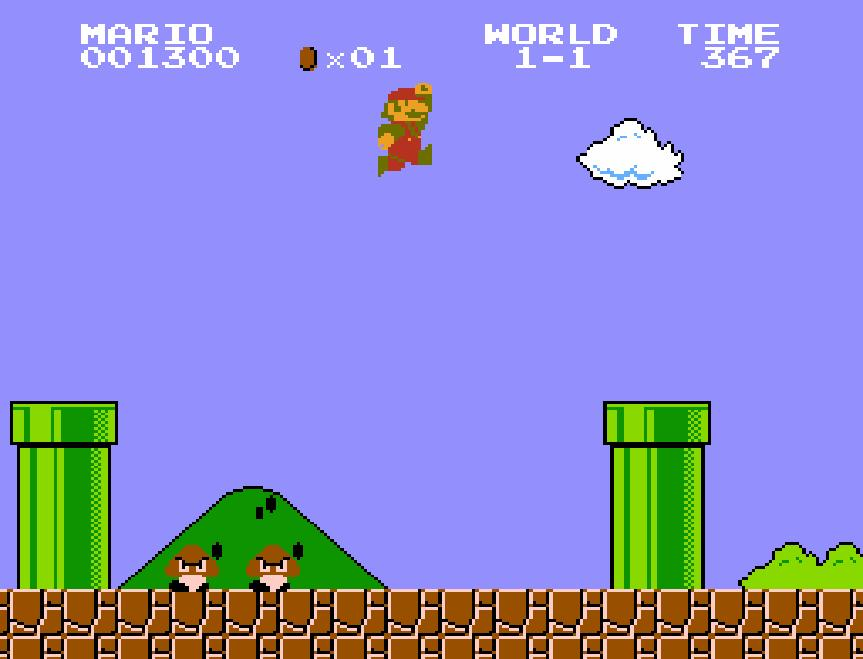big_mario: (376, 80, 434, 178)
